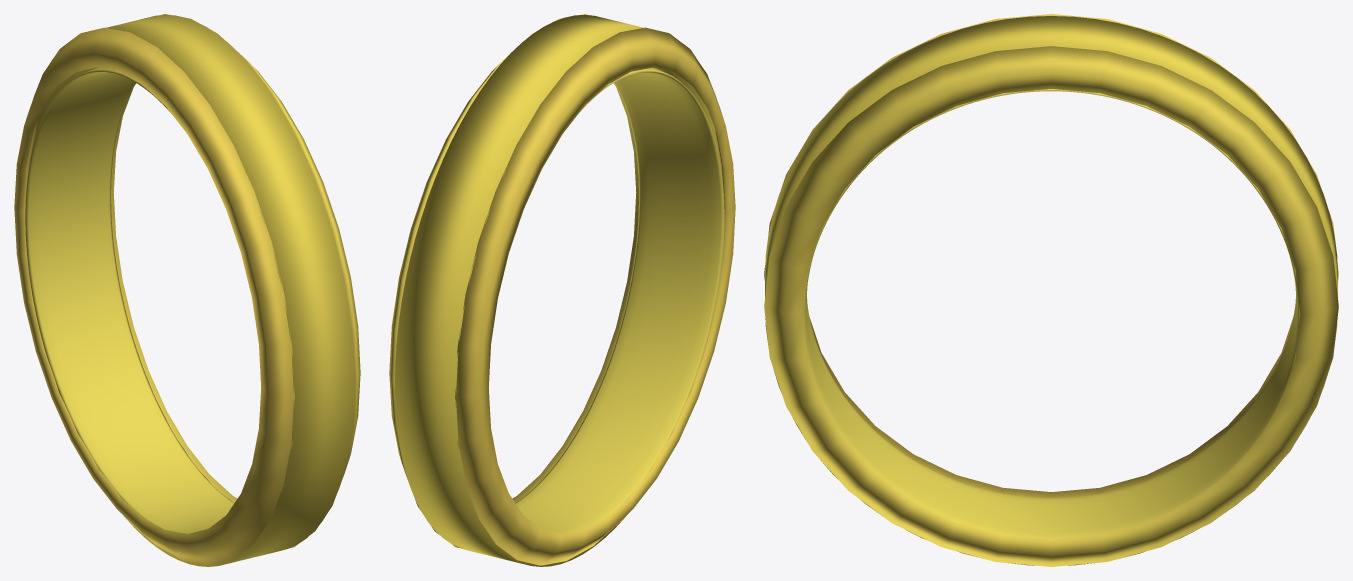
File: ringchanffina.glb
The picture shows the model from 3 angles, left to right: view 1: azimuth 30°, elevation 25°; view 2: azimuth 150°, elevation 25°; view 3: azimuth 270°, elevation 25°; orthographic projection. The views are drawn at different scales.
Parts seen in each view (by area): view 1: Circle; view 2: Circle; view 3: Circle.
Boxes of the visible parts, left/top/right/bottom form: Circle: left=14, top=14, right=360, bottom=566; Circle: left=389, top=14, right=735, bottom=566; Circle: left=764, top=14, right=1338, bottom=566.
Bounding box in the file's own units: 0.3597 × 1.89 × 1.88.
